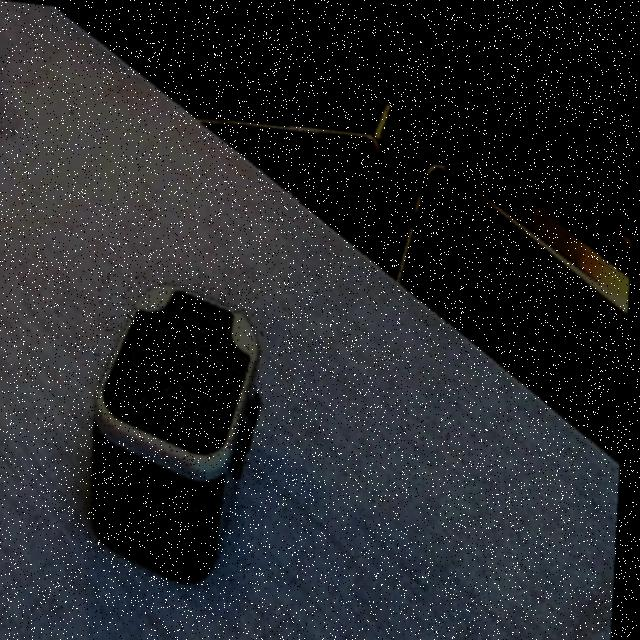adapter: (91, 270, 271, 583)
